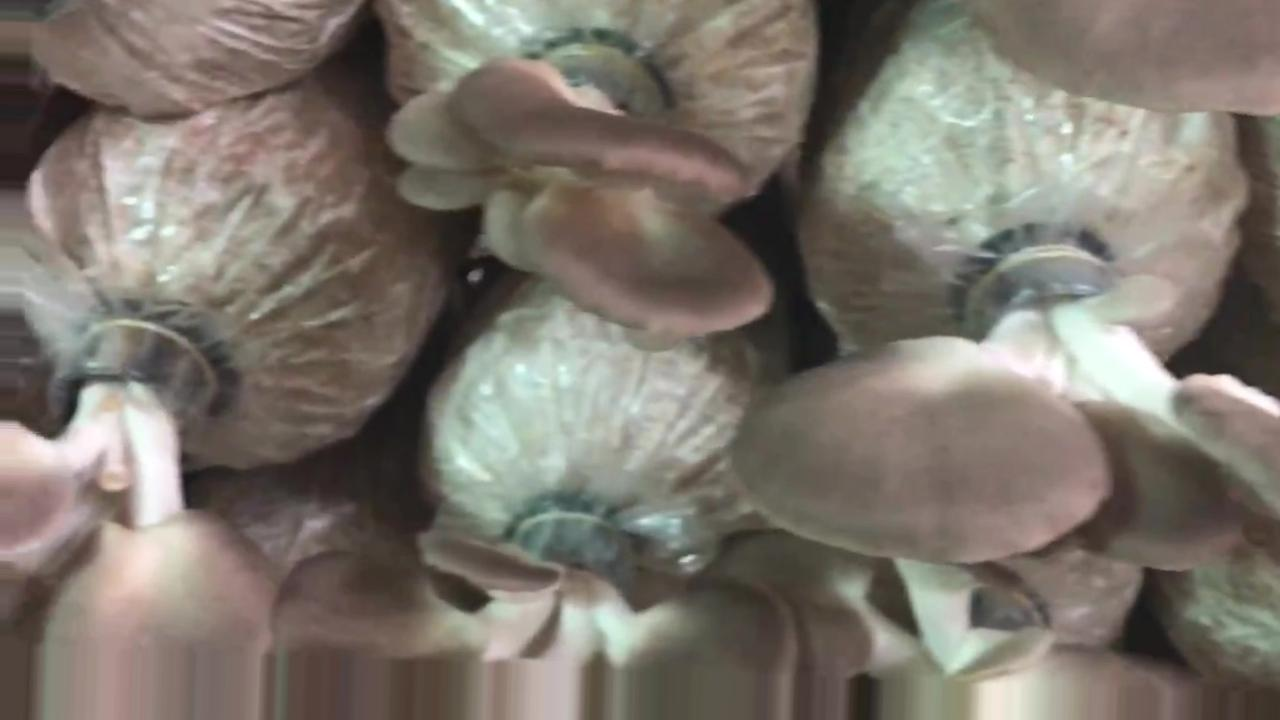nam: (734, 213, 1280, 574), (382, 25, 768, 341), (263, 500, 796, 670), (1, 313, 280, 630), (966, 1, 1280, 121)
